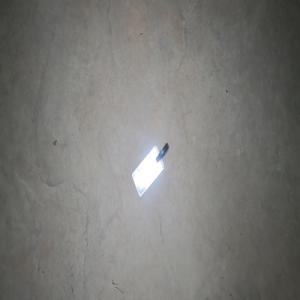LuggageTag: (131, 141, 169, 198)
